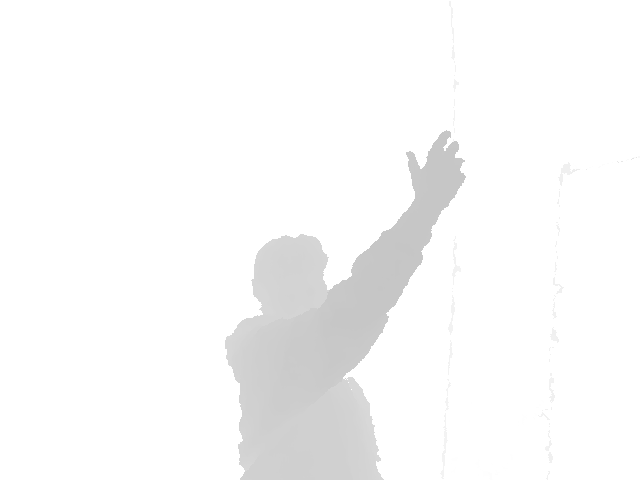hand: (405, 129, 467, 216)
head: (249, 234, 332, 318)
person: (222, 129, 467, 480)
